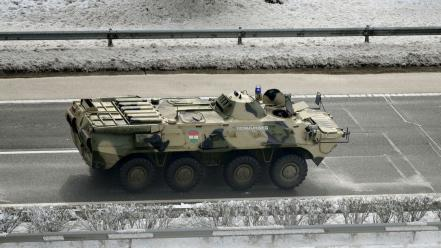armored_car: (63, 87, 350, 193)
